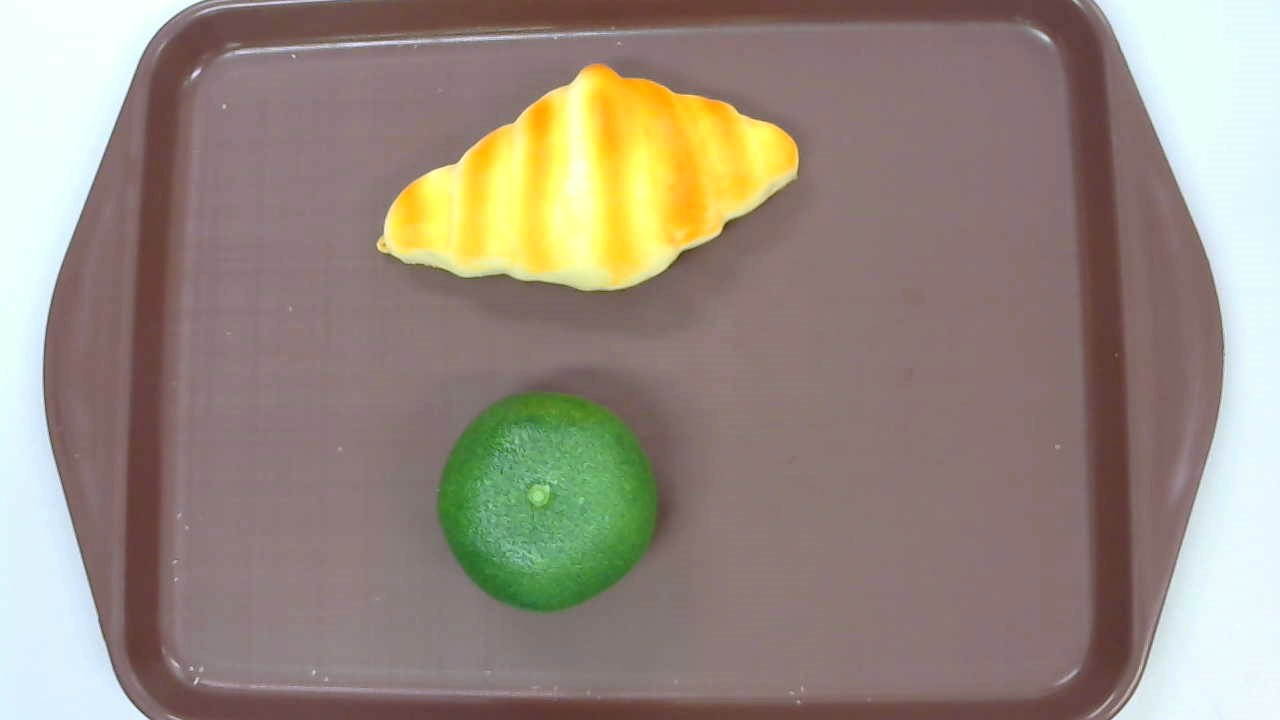croissant: (374, 63, 799, 294)
green orange: (435, 391, 660, 618)
